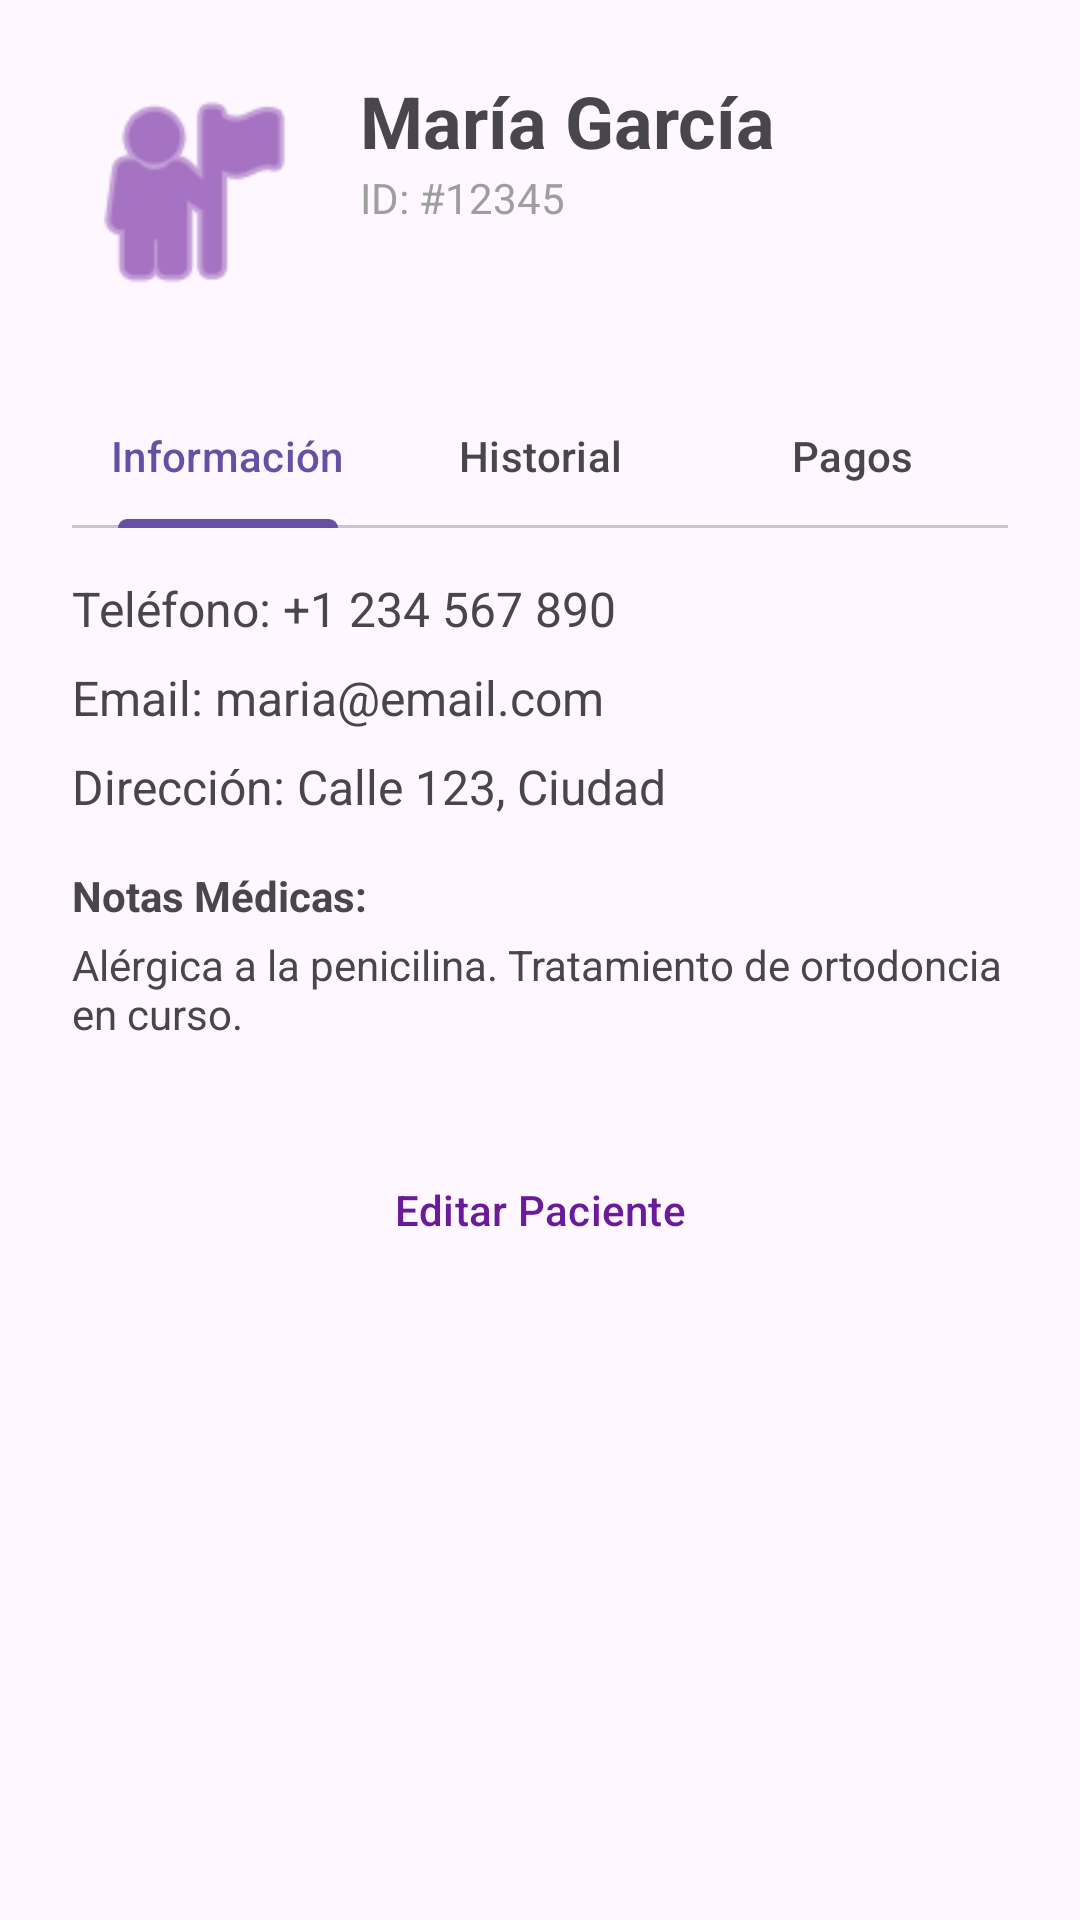

Locate icon controls on the screen. Image size 1080 × 1920, boxes as (x1, y1, x2, y2).
myplaces: (104, 102, 285, 282)
